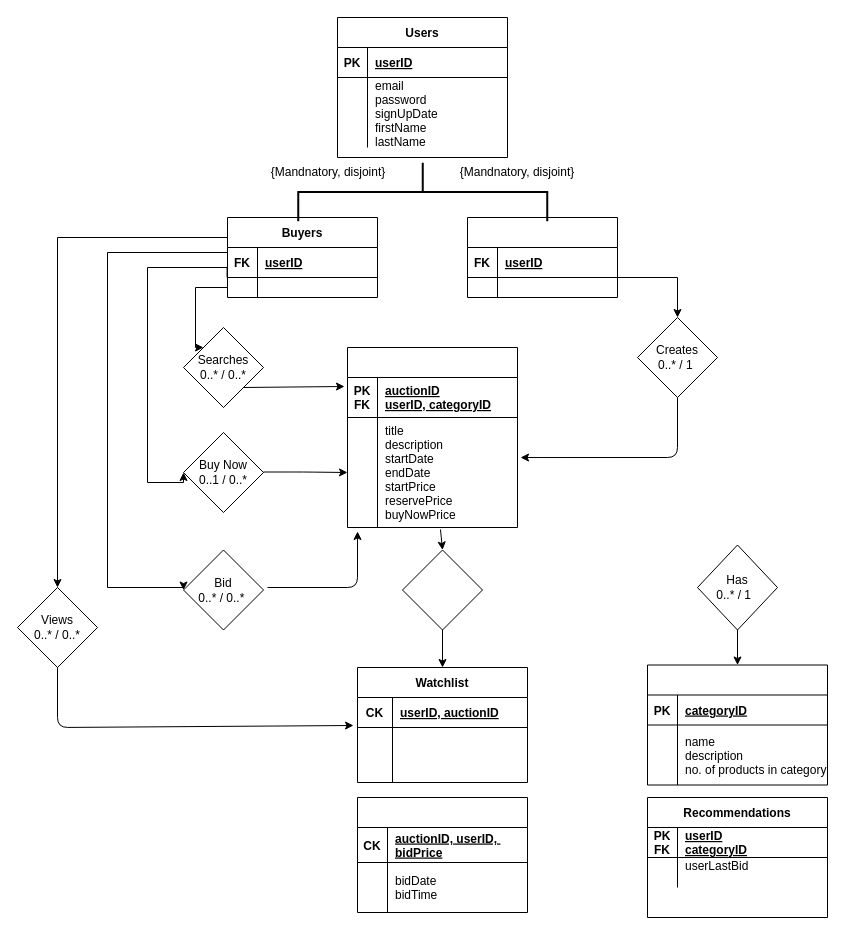
Image size: 845x935. Some labels were removed from this diagram. Each missing label, with the box of its shape:
Adds 0..* / 0..*: (402, 549, 482, 630)
Auctions/Items: (346, 346, 518, 528)
Bids: (356, 796, 528, 912)
Categories: (646, 664, 828, 785)
Sellers: (466, 216, 618, 298)
